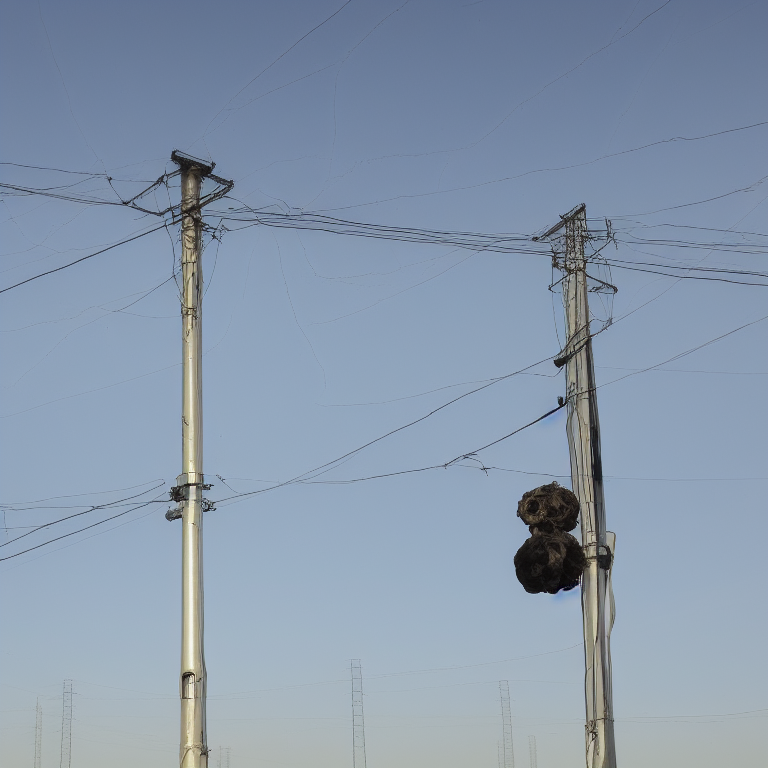nest: (515, 539, 586, 590), (520, 486, 577, 533)
